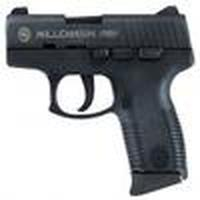gun: (5, 11, 191, 194)
